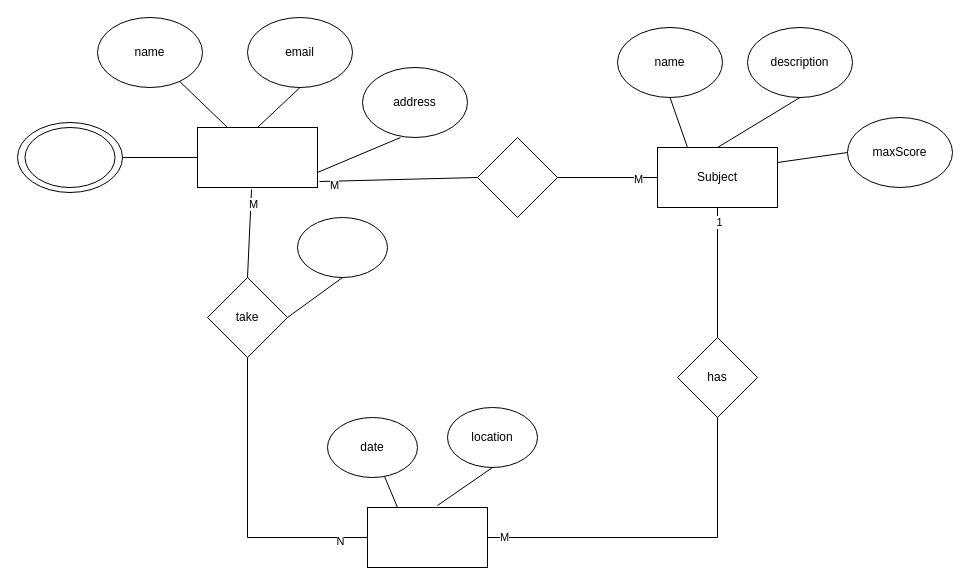
Some shapes in this 970 by 585 pixel diagram are drawn without their labels. The box of each missing label's shape, as (x1, y1, x2, y2) in pixels:
Exam: (366, 506, 488, 568)
phone: (24, 126, 115, 188)
score: (296, 216, 388, 278)
Student: (196, 126, 318, 188)
study: (476, 136, 558, 218)
